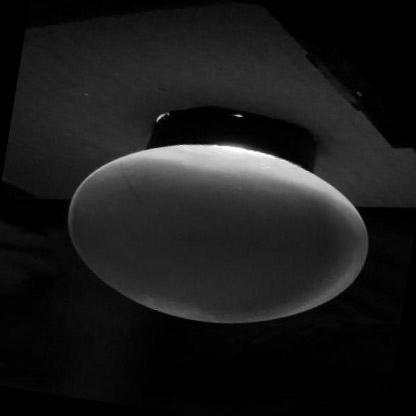telur: (63, 137, 371, 330)
